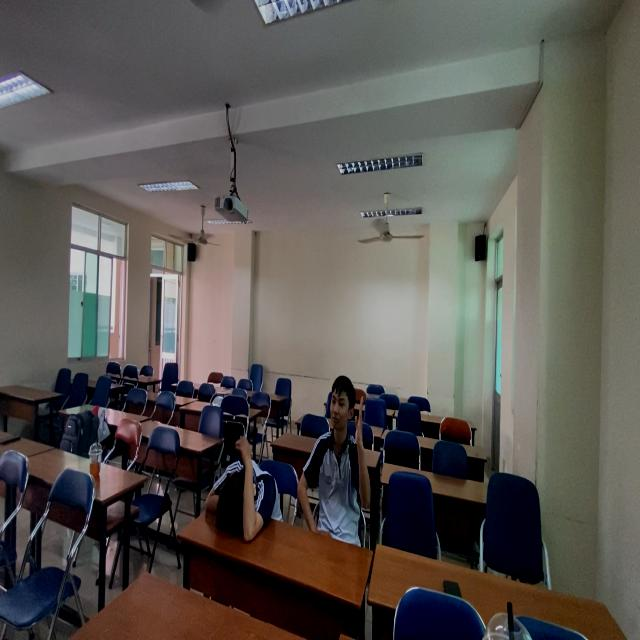raise_hand: (296, 373, 375, 544)
sleep: (203, 434, 279, 544)
